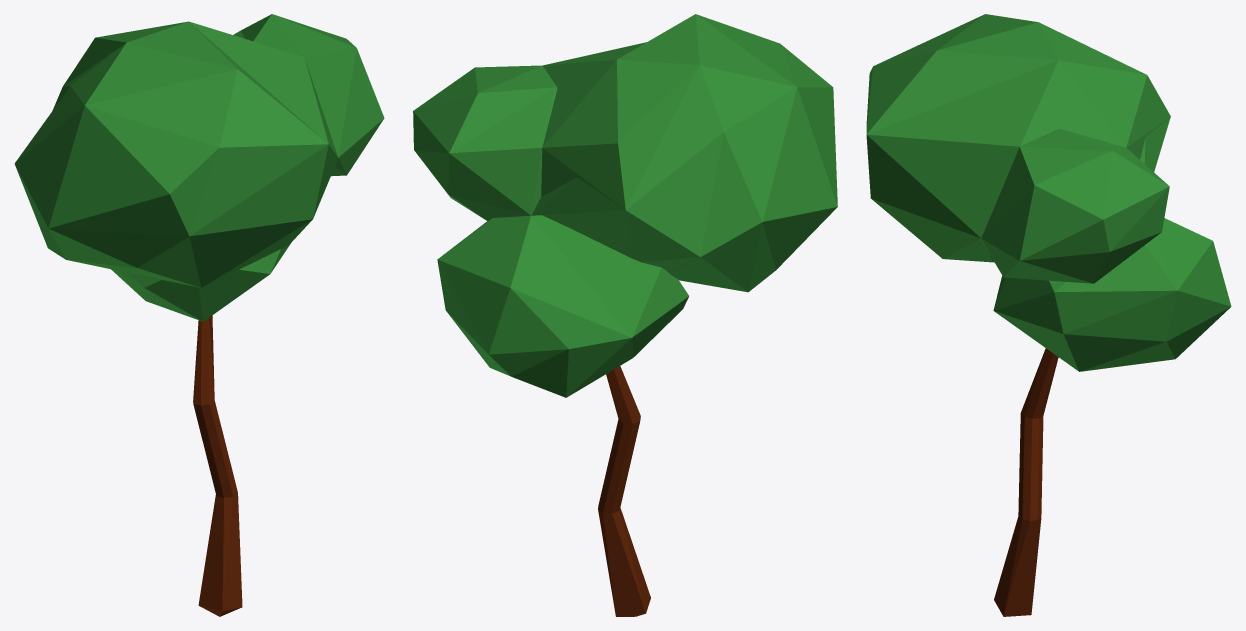
The model's file is Tree2.fbx.
3 renders of one model, left to right at view 1: azimuth 30°, elevation 25°; view 2: azimuth 150°, elevation 25°; view 3: azimuth 270°, elevation 25°, orthographic. The views are drawn at different scales.
Visible parts, largest first — view 1: Cube; view 2: Cube; view 3: Cube.
Boxes of the visible parts, bbox=[...] form: Cube: bbox=[14, 14, 384, 616]; Cube: bbox=[413, 14, 837, 616]; Cube: bbox=[866, 14, 1231, 616].
Size of the model in its own units: 277 by 426 by 253.
